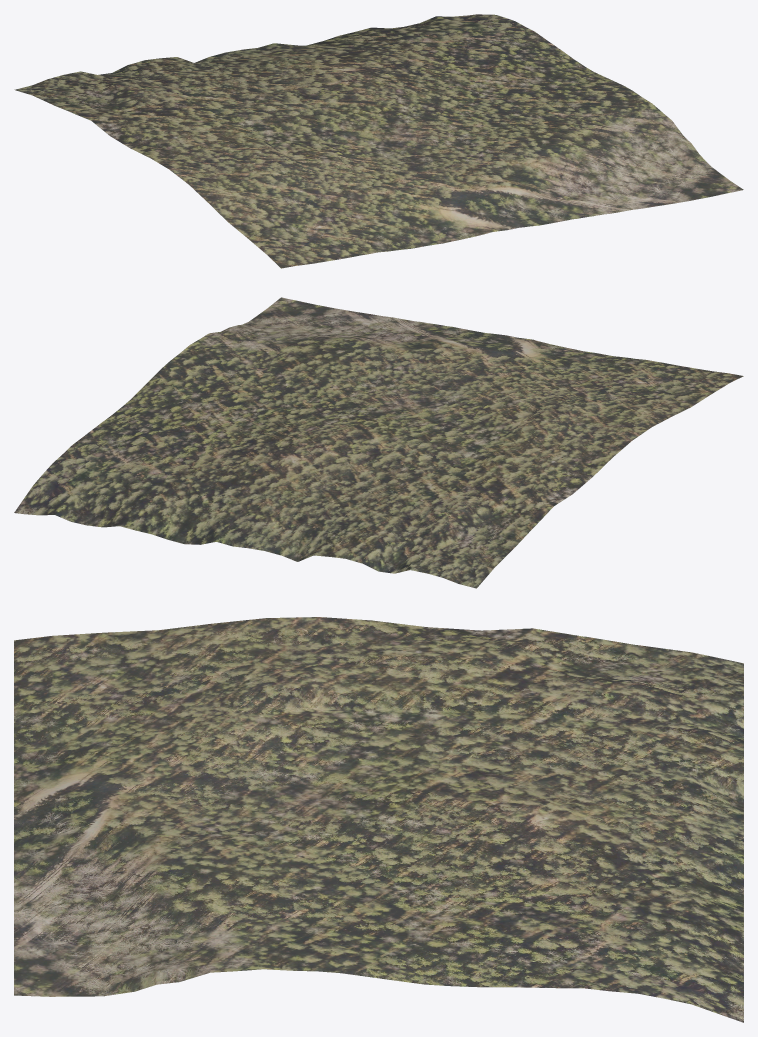
The model's file is CM_Terrain_24490458_6822865.fbx.
The picture shows the model from 3 angles, top to bottom: view 1: azimuth 30°, elevation 25°; view 2: azimuth 150°, elevation 25°; view 3: azimuth 270°, elevation 25°; orthographic projection. The views are drawn at different scales.
Parts seen in each view (by area): view 1: CM_Terrain_24490458_6822865_LOD0; view 2: CM_Terrain_24490458_6822865_LOD0; view 3: CM_Terrain_24490458_6822865_LOD0.
Part boxes in pixels (x1,y1,x2,y2): CM_Terrain_24490458_6822865_LOD0: (14,14,743,268); CM_Terrain_24490458_6822865_LOD0: (14,297,743,588); CM_Terrain_24490458_6822865_LOD0: (14,617,743,1022).
Size of what is drawn, in the model's own units: 205 by 30.18 by 205.
